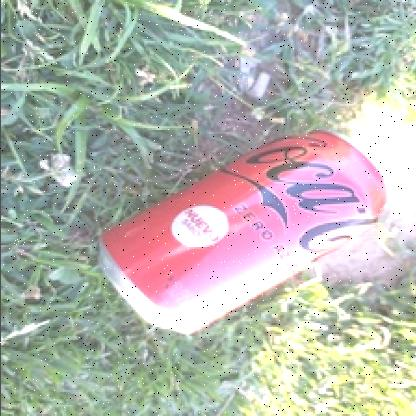Can: (95, 131, 416, 334)
